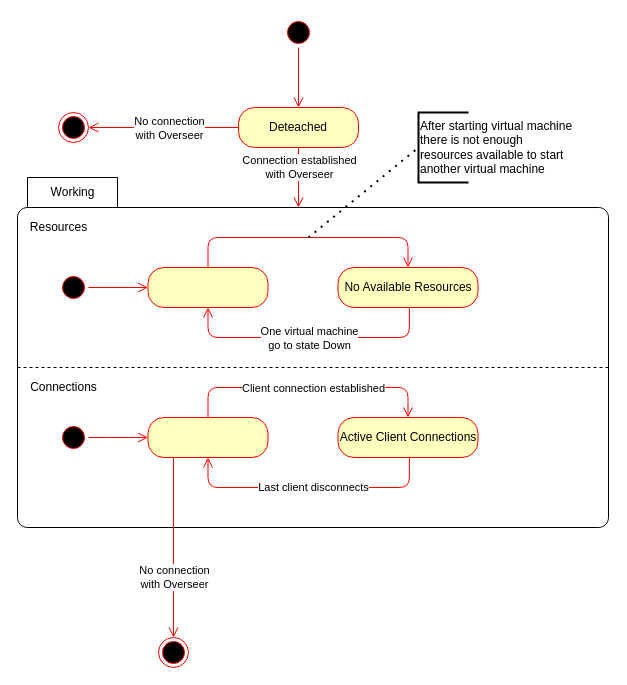
Some shapes in this 627 by 685 pixel diagram are drawn without their labels. Each missing label, with the centre of its shape:
Available Resources: [207,287]
No Active Client Connections: [207,437]
